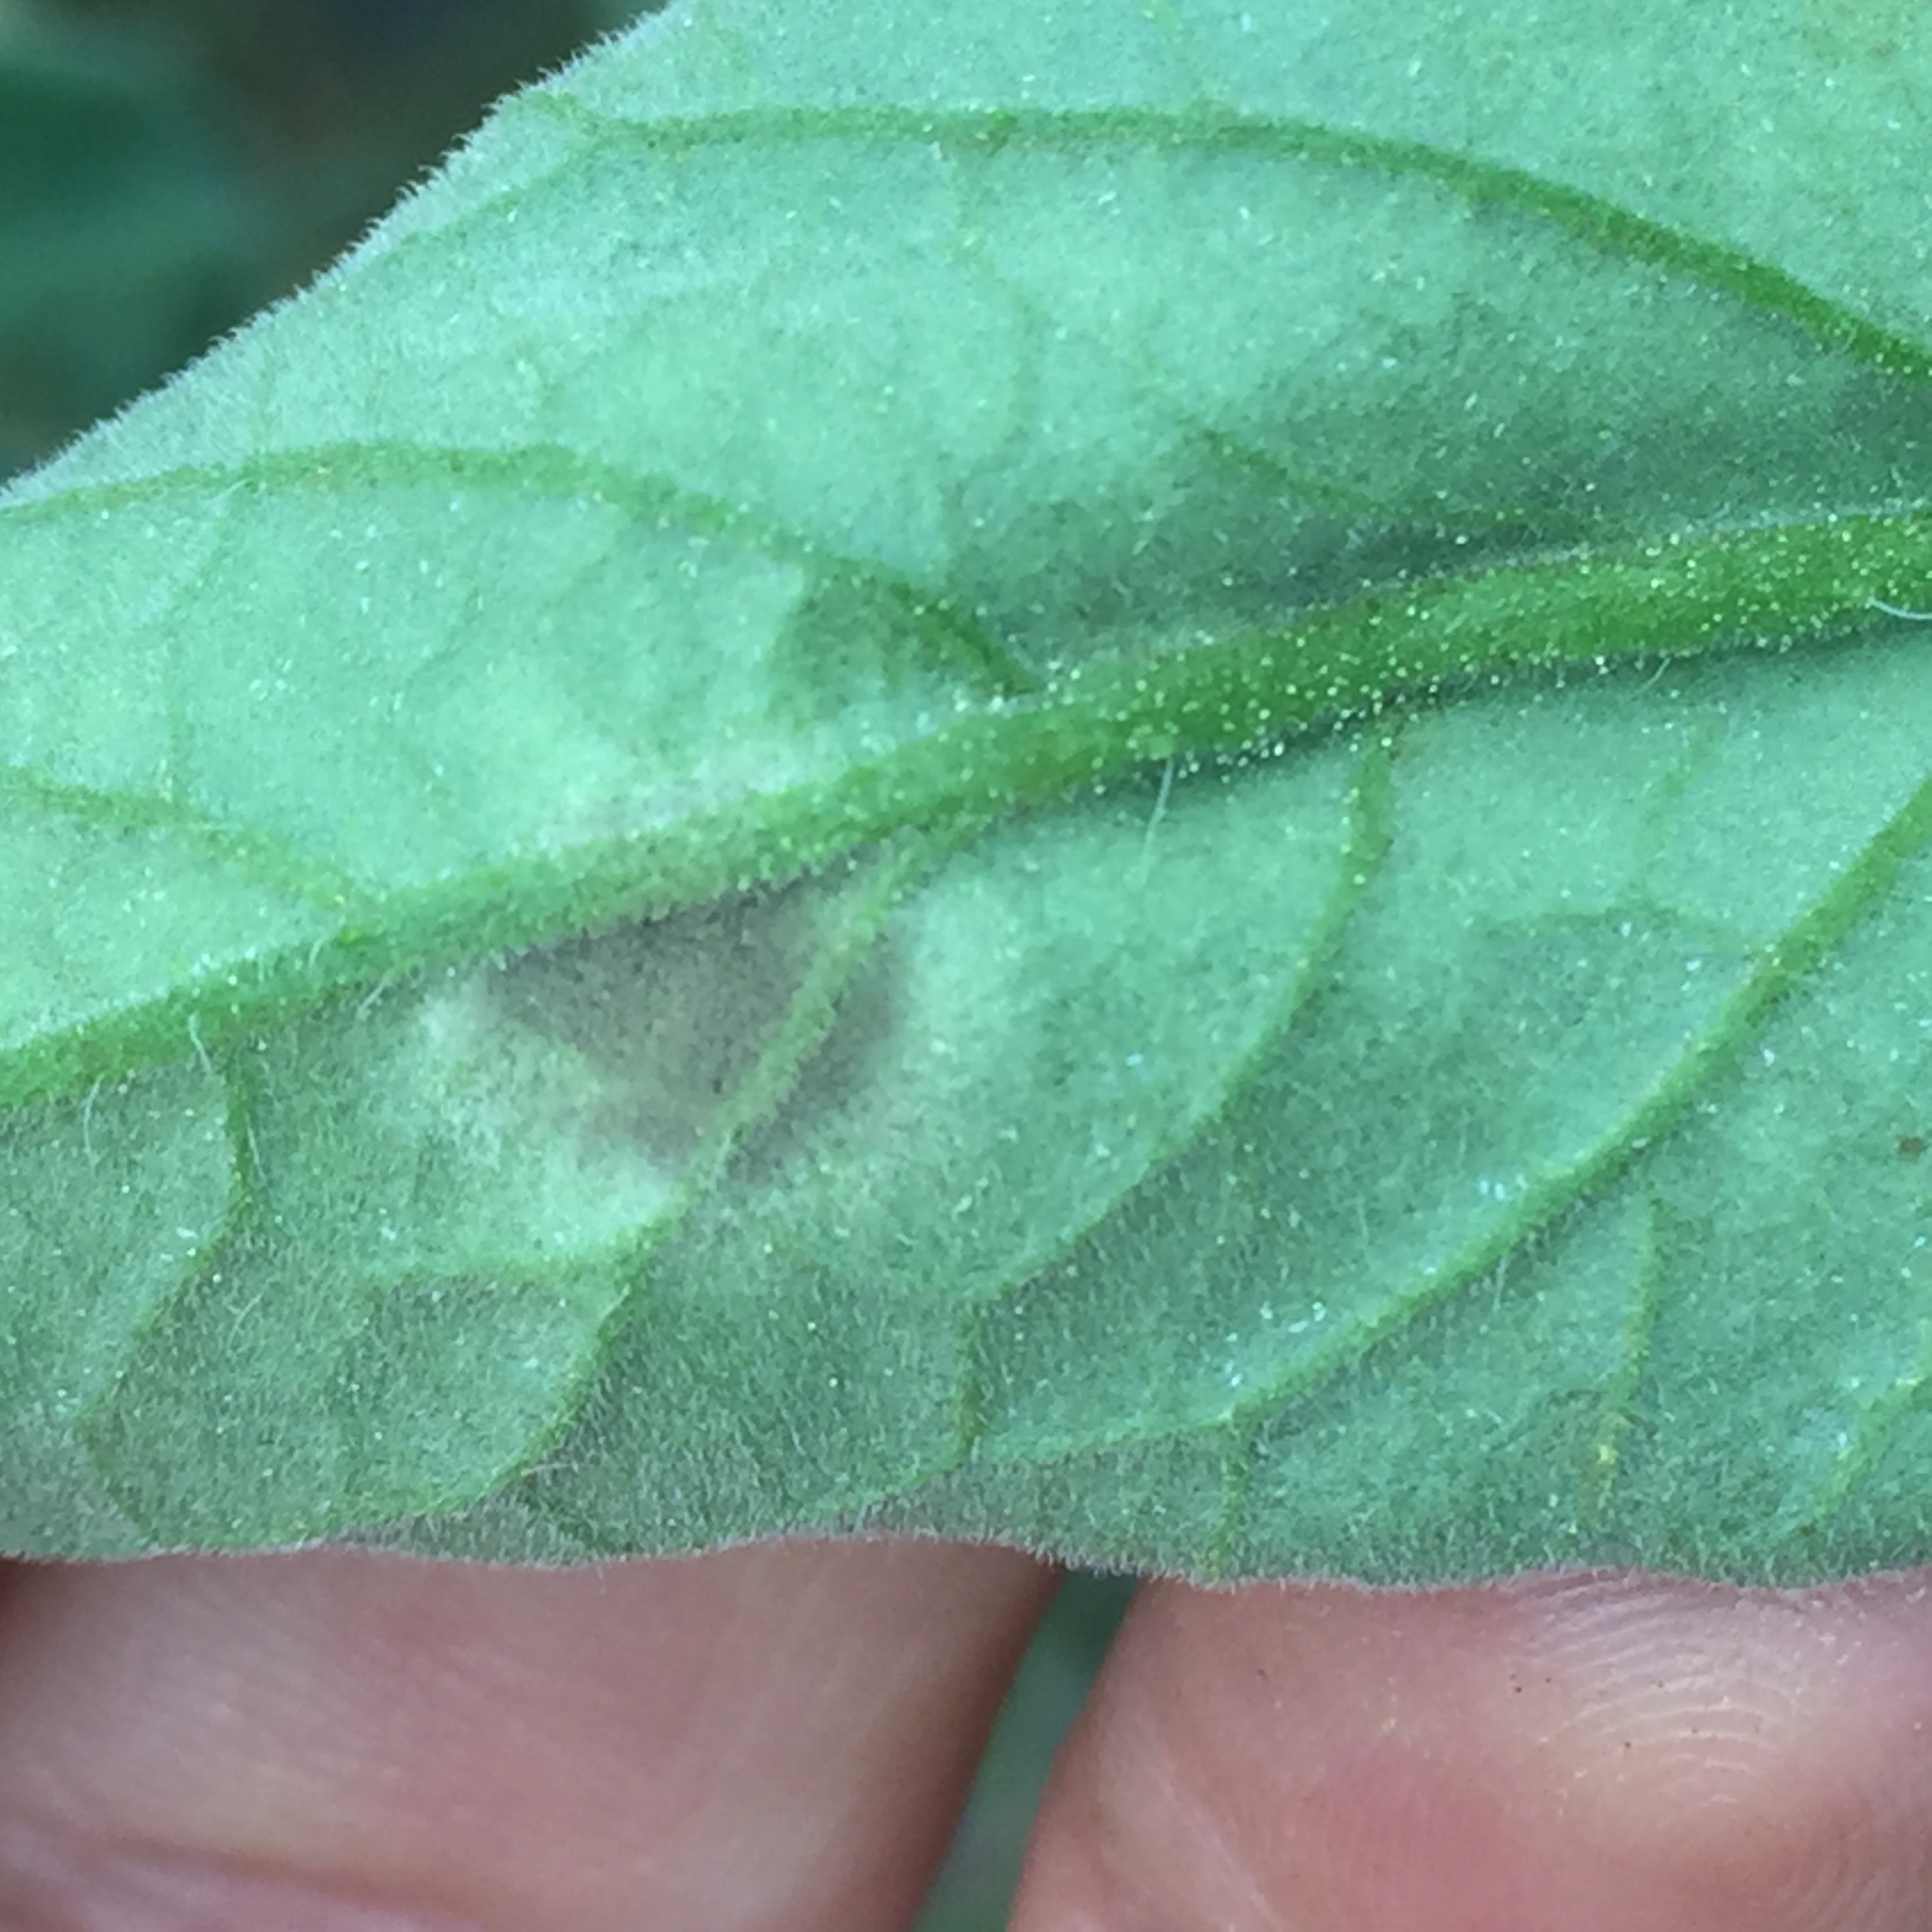negra: (432, 840, 945, 1212)
